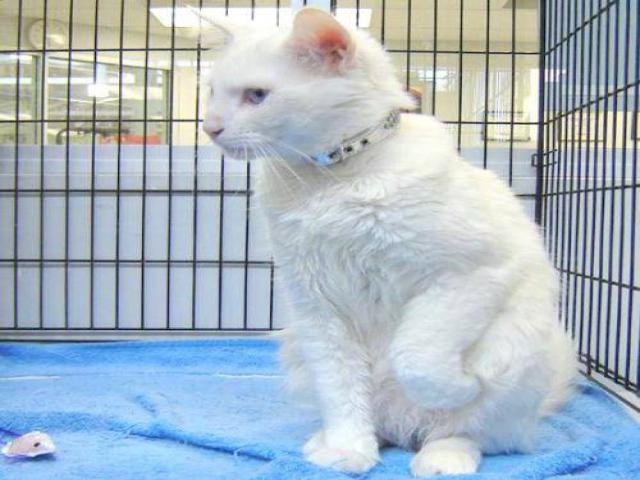cat: (188, 5, 576, 473)
